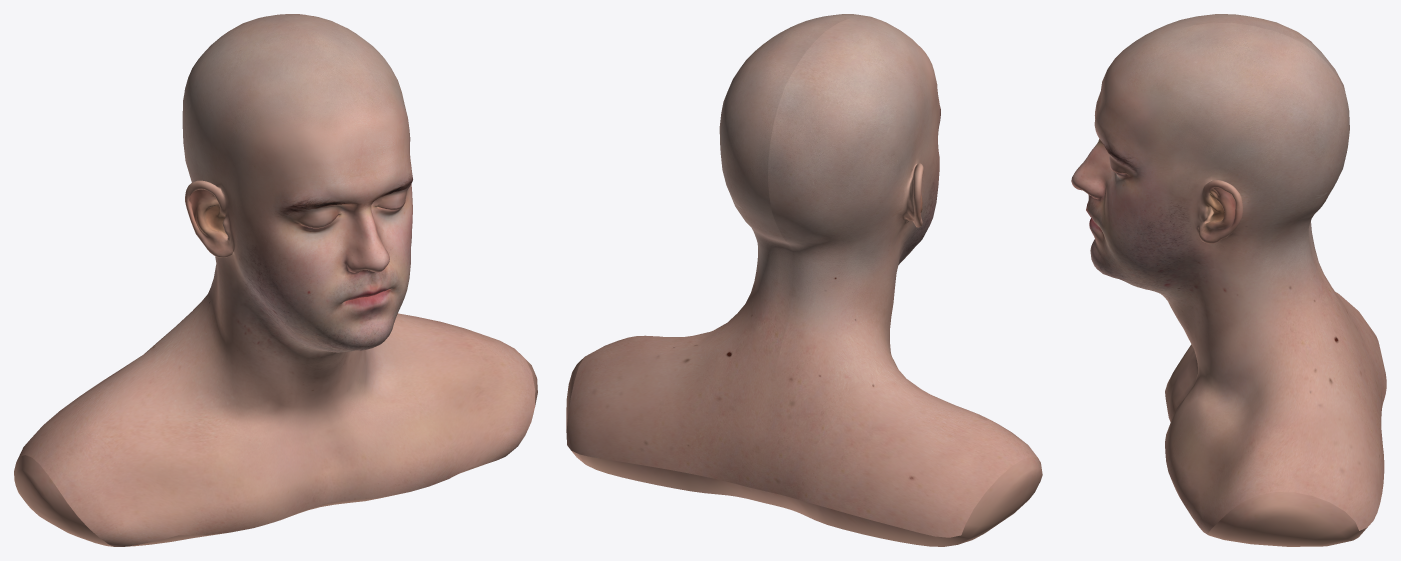
The model's file is Head_1KTex.glb.
3 views of the same model, side by side, from view 1: azimuth 30°, elevation 25°; view 2: azimuth 150°, elevation 25°; view 3: azimuth 270°, elevation 25° (orthographic). The views are drawn at different scales.
Visible parts, largest first — view 1: head; view 2: head; view 3: head.
Part boxes in pixels (<box>): head: <box>14,14,537,546</box>; head: <box>566,14,1042,546</box>; head: <box>1071,14,1386,546</box>.
Size of the model in its own units: 0.4533 by 0.4211 by 0.2746.
Materials: 1 (1 with a texture image).
